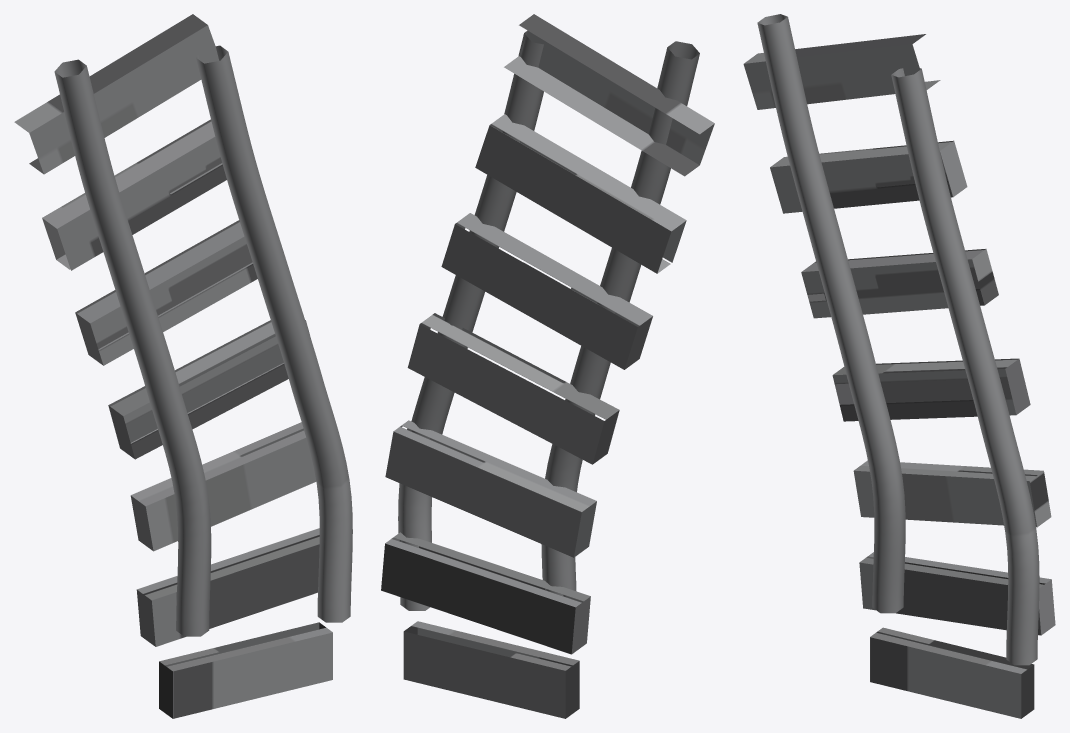
3 renders of one model, left to right at view 1: azimuth 30°, elevation 25°; view 2: azimuth 150°, elevation 25°; view 3: azimuth 330°, elevation 25°, orthographic. The views are drawn at different scales.
Size of the model in its own units: 0.483 by 0.9971 by 0.076.
